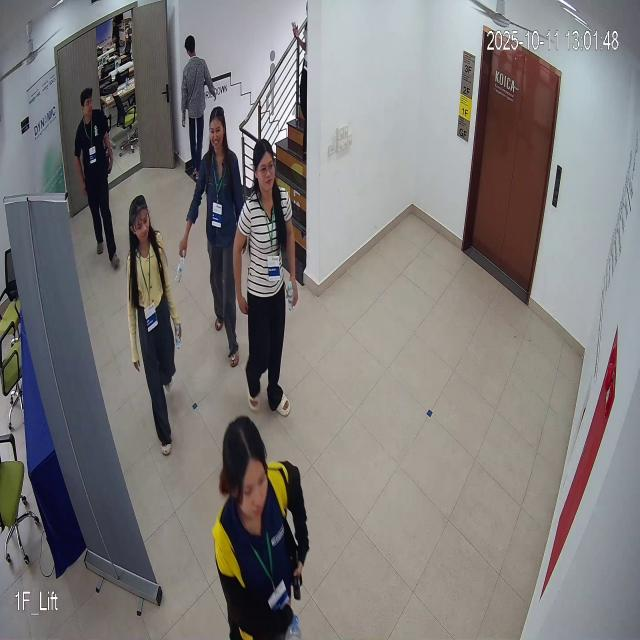face: (250, 136, 282, 201), (128, 189, 152, 250), (204, 100, 229, 158)
